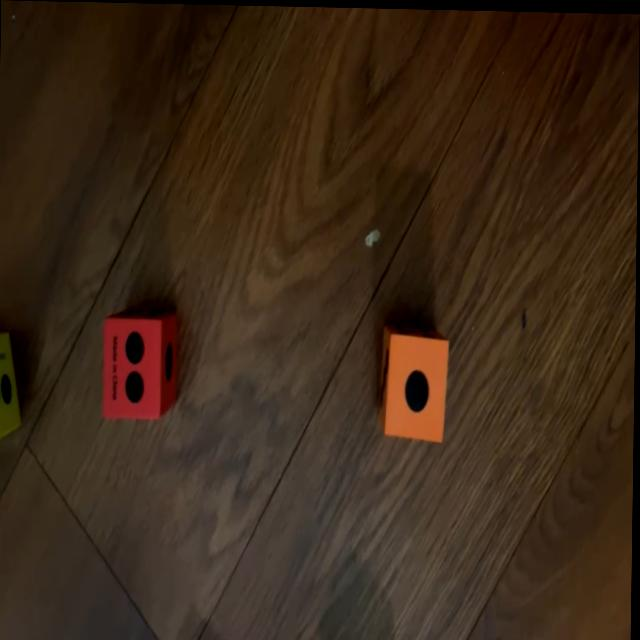cube: (103, 306, 179, 421)
